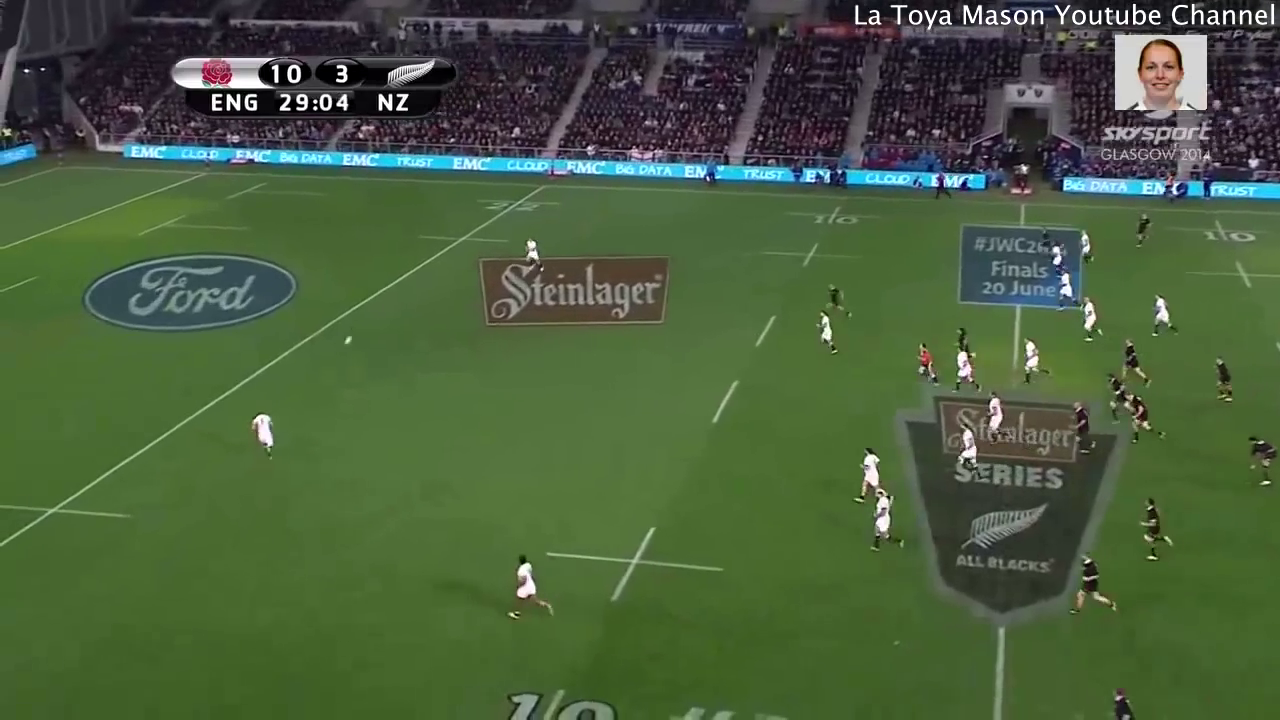10_metre: (537, 520, 728, 607), (752, 239, 869, 274), (1171, 216, 1280, 250), (1182, 257, 1280, 294), (777, 202, 886, 232)
ball: (341, 332, 357, 352)
player: (501, 550, 561, 628), (1063, 543, 1121, 619), (844, 444, 890, 516), (1132, 493, 1176, 567), (862, 480, 905, 555), (1123, 386, 1170, 446), (1240, 428, 1280, 496), (1110, 339, 1158, 393), (1017, 328, 1056, 392), (980, 384, 1015, 448), (1144, 289, 1184, 344), (948, 418, 981, 483), (949, 343, 987, 399), (1065, 397, 1098, 456), (810, 306, 843, 364), (1076, 295, 1112, 348), (245, 408, 280, 462), (1208, 349, 1240, 408), (912, 341, 946, 396), (1104, 680, 1149, 720), (1052, 264, 1082, 314), (822, 280, 856, 323), (1103, 367, 1128, 424), (520, 231, 547, 280), (1072, 225, 1097, 273), (1131, 208, 1156, 255), (949, 324, 977, 356), (1046, 238, 1064, 274), (1036, 223, 1053, 254)
